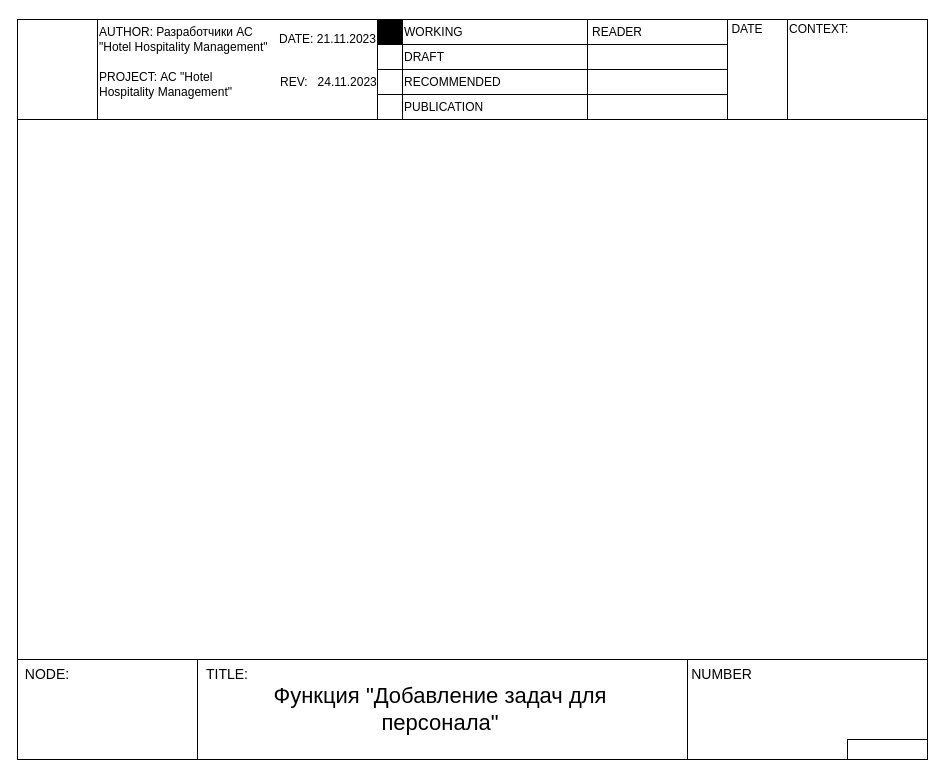
Some shapes in this 945 by 777 pixel diagram are drawn without their labels. Each missing label, with the box of its shape:
A0: (786, 18, 928, 120)
USED AT:: (16, 18, 98, 120)
А36: (16, 658, 198, 760)
